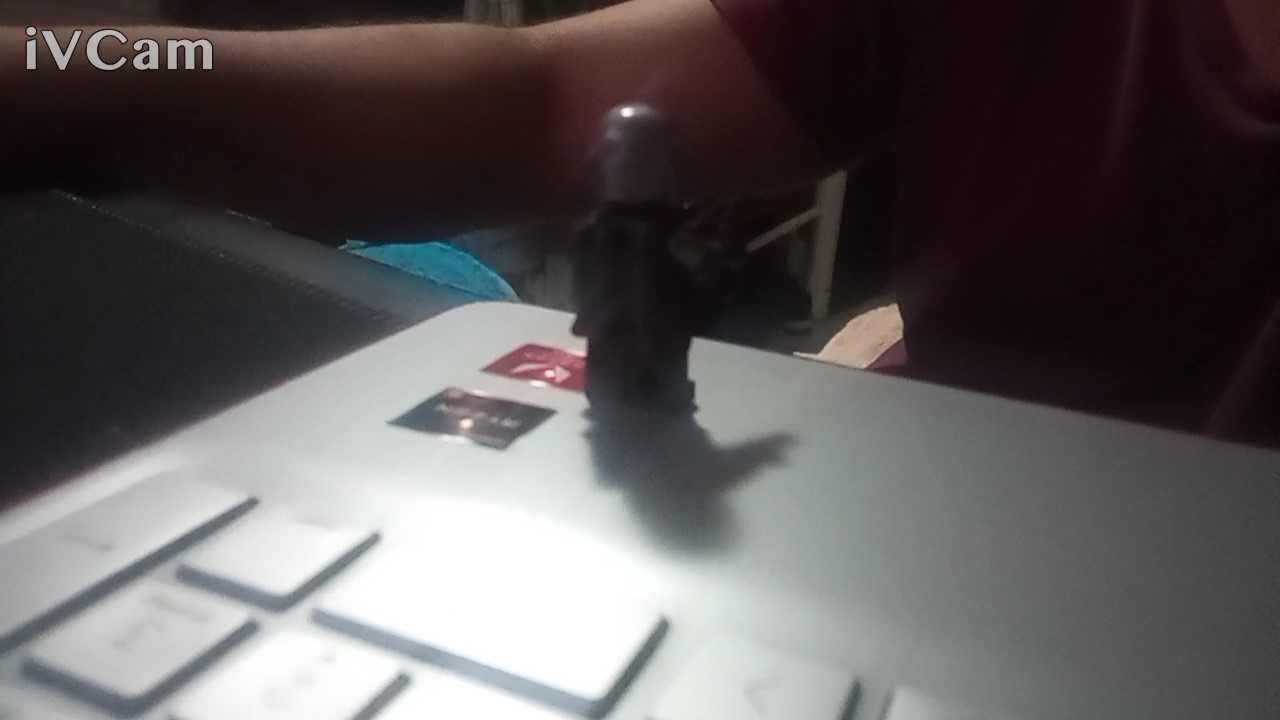mandalorian: (563, 99, 757, 428)
